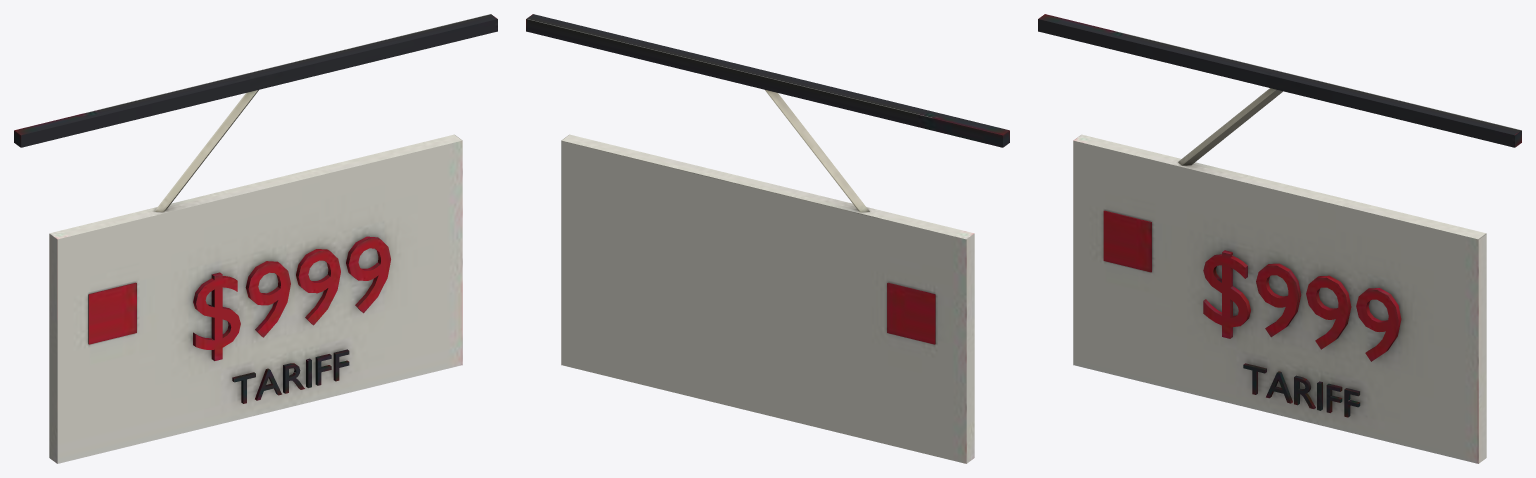
The model's file is etiqueta_precio.glb.
3 renders of one model, left to right at view 1: azimuth 30°, elevation 25°; view 2: azimuth 150°, elevation 25°; view 3: azimuth 330°, elevation 25°, orthographic.
Parts seen in each view (by area): view 1: etiqueta_precio; view 2: etiqueta_precio; view 3: etiqueta_precio.
Part boxes in pixels (box(x1,y1,x2,y2)): etiqueta_precio: box(14, 14, 497, 463); etiqueta_precio: box(526, 14, 1009, 463); etiqueta_precio: box(1038, 14, 1521, 463).
Size of the model in its own units: 2 by 1.35 by 0.095.
Materials: 1 (1 with a texture image).
